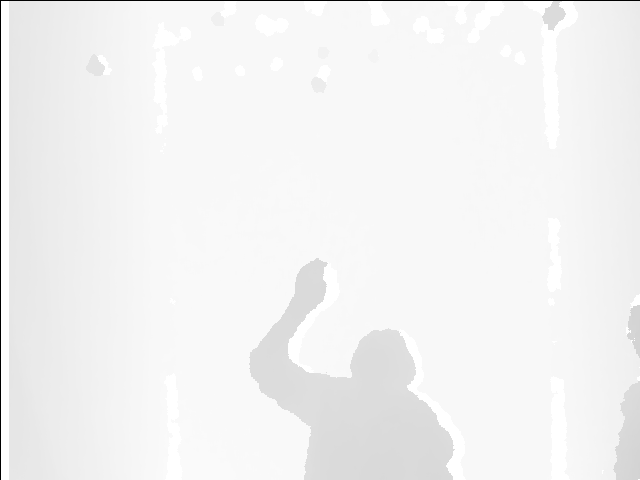hand: (292, 256, 331, 314)
